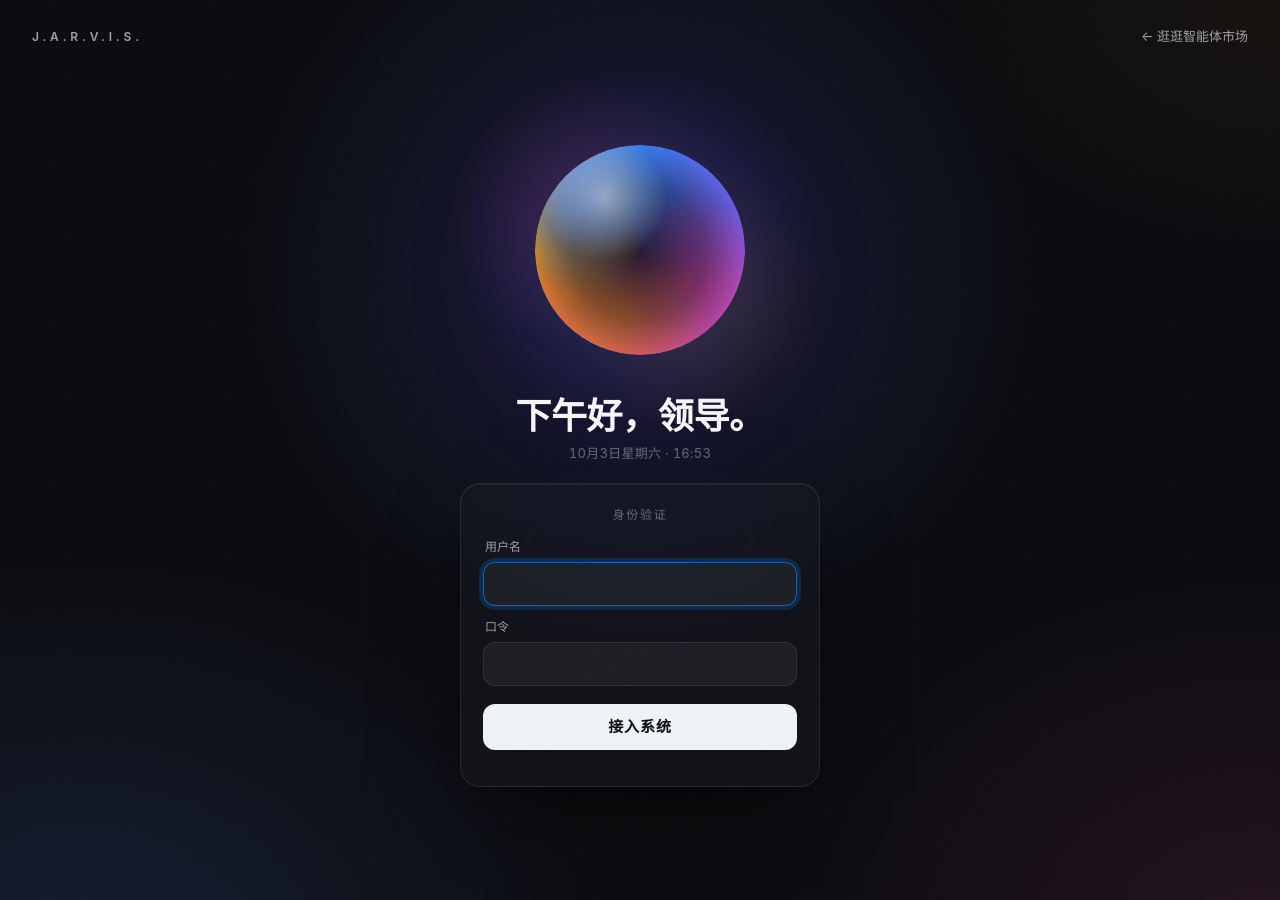
Test case: 登录失败后的焦点 › 用户名或口令为空时不发请求，提示并聚焦空着的那一栏
The image size is (1280, 900).
Type "owner" into the field labelled "用户名" at (640, 584), box [483, 562, 797, 606]
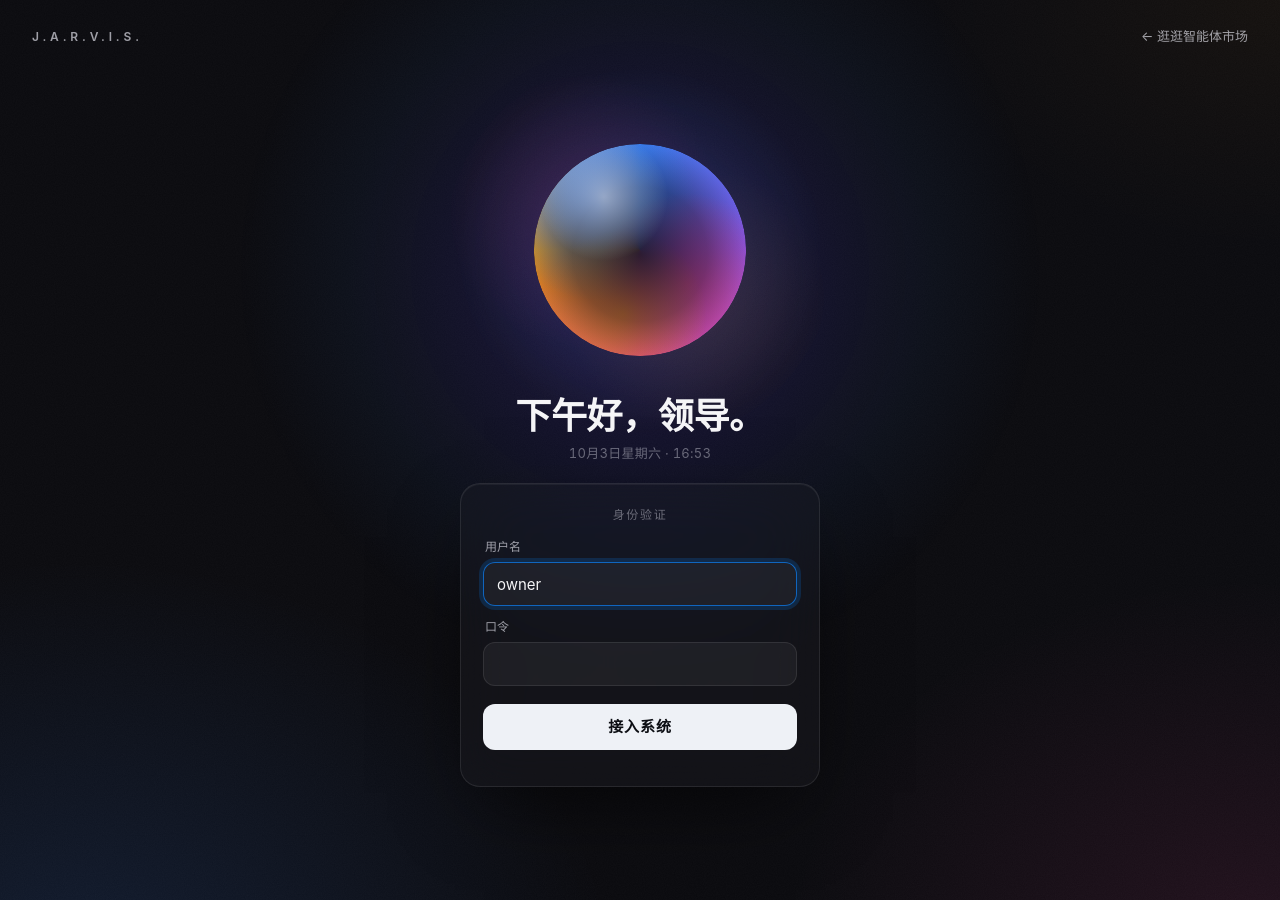
Submit the form named "登录", box [460, 483, 820, 787]
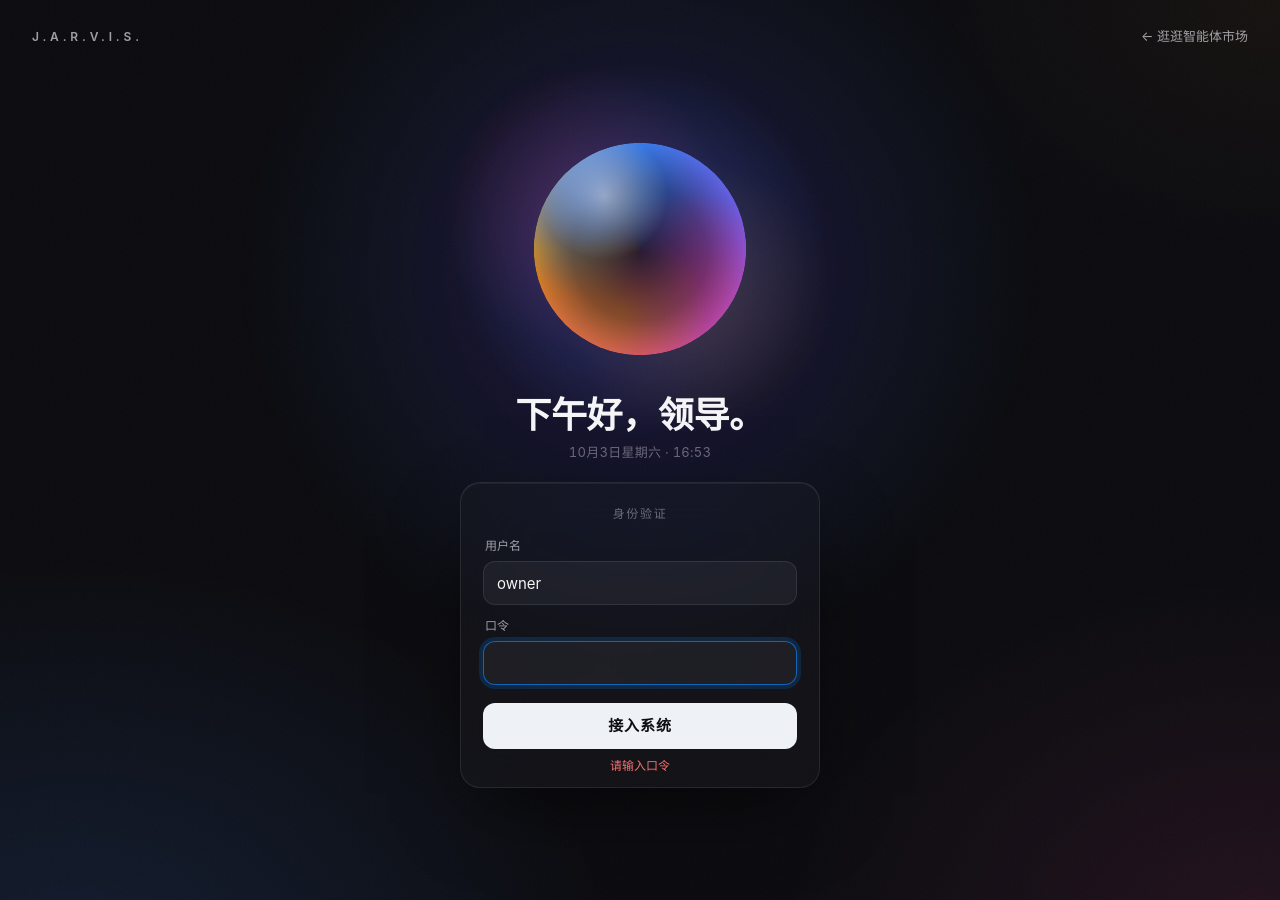
Expected: the text "请输入口令" is shown, [610, 758, 670, 773]
